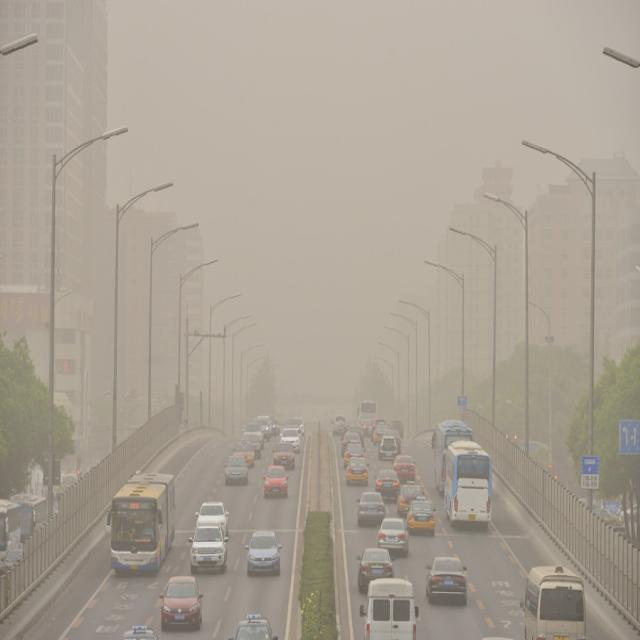car: (358, 498, 410, 578), (158, 576, 202, 631), (425, 557, 468, 605), (188, 524, 227, 572), (356, 547, 394, 593), (245, 530, 281, 576), (376, 516, 410, 557), (195, 501, 229, 540), (356, 491, 387, 528), (232, 615, 274, 639), (409, 494, 434, 531), (261, 464, 288, 498), (399, 480, 425, 512), (224, 454, 249, 486), (346, 457, 369, 484), (377, 466, 397, 496), (281, 427, 301, 456), (274, 442, 294, 467), (244, 432, 260, 458), (234, 441, 252, 464), (344, 444, 364, 464), (248, 426, 264, 449), (395, 457, 414, 476), (341, 431, 360, 448), (380, 438, 395, 459), (374, 425, 388, 446), (331, 414, 345, 434), (258, 416, 268, 442)
truck: (109, 471, 175, 575), (522, 564, 585, 639), (440, 437, 492, 526), (431, 418, 470, 495), (357, 402, 375, 432)
